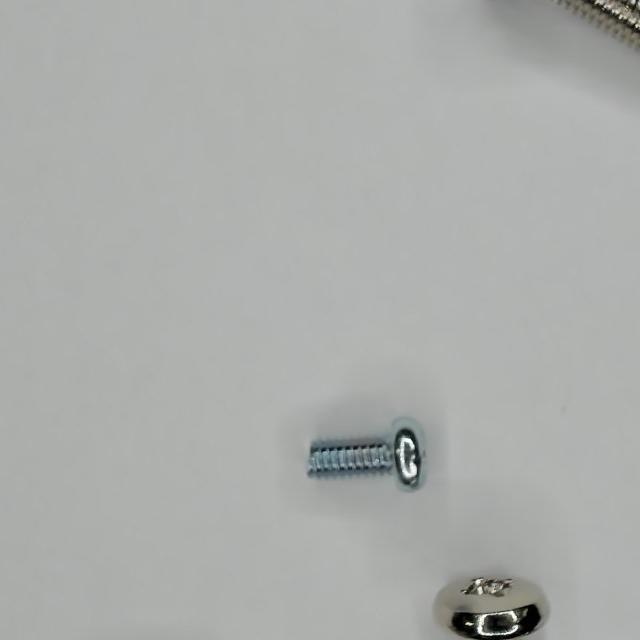Dry Waste: (286, 433, 598, 640)
